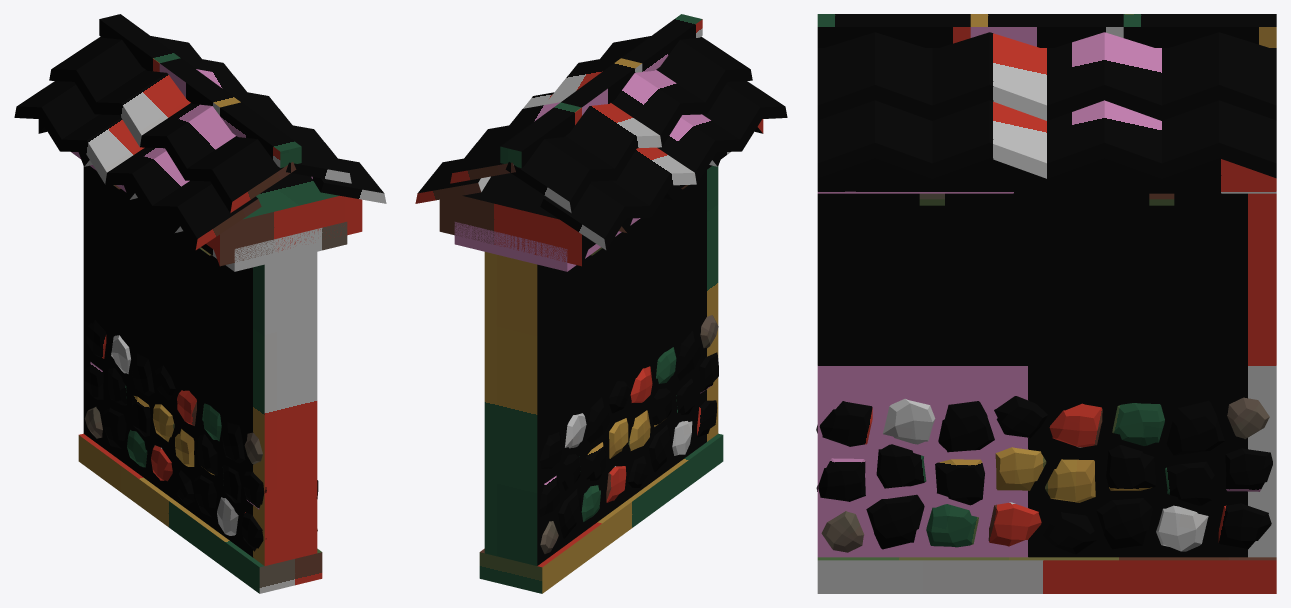
File: Walls.fbx
3 views of the same model, side by side, from view 1: azimuth 30°, elevation 25°; view 2: azimuth 150°, elevation 25°; view 3: azimuth 270°, elevation 25° (orthographic). The views are drawn at different scales.
Parts seen in each view (by area): view 1: Wall, Roof, Roof.001, Wall.001, WallPaving.001, WallPaving, Cube, Roof.002, Roof.003; view 2: Wall, Roof, Roof.001, Wall.001, WallPaving.001, WallPaving, Cube, Roof.002, Roof.003; view 3: Wall, Roof.002, Roof.003, WallPaving.002, WallPaving.003, Cube, Wall.001.
Part boxes in pixels (x1,y1,x2,y2): Wall: (78,165,322,593); Roof: (49,36,296,212); Roof.001: (14,81,261,250); Wall.001: (38,119,362,271); WallPaving.001: (172,390,266,551); WallPaving: (84,320,175,481); Cube: (99,14,301,167); Roof.002: (151,36,351,183); Roof.003: (202,59,386,203); Wall: (479,165,723,593); Roof: (505,36,752,212); Roof.001: (540,81,787,250); Wall.001: (439,119,763,271); WallPaving.001: (627,315,718,487); WallPaving: (539,381,630,553); Cube: (500,14,702,167); Roof.002: (450,36,650,183); Roof.003: (415,59,599,203); Wall: (817,193,1276,593); Roof.002: (817,32,1276,120); Roof.003: (817,100,1276,178); WallPaving.002: (816,396,1048,552); WallPaving.003: (1043,397,1272,554); Cube: (817,14,1276,47); Wall.001: (817,158,1276,205).
Size of the model in its own units: 122 by 266 by 201.
